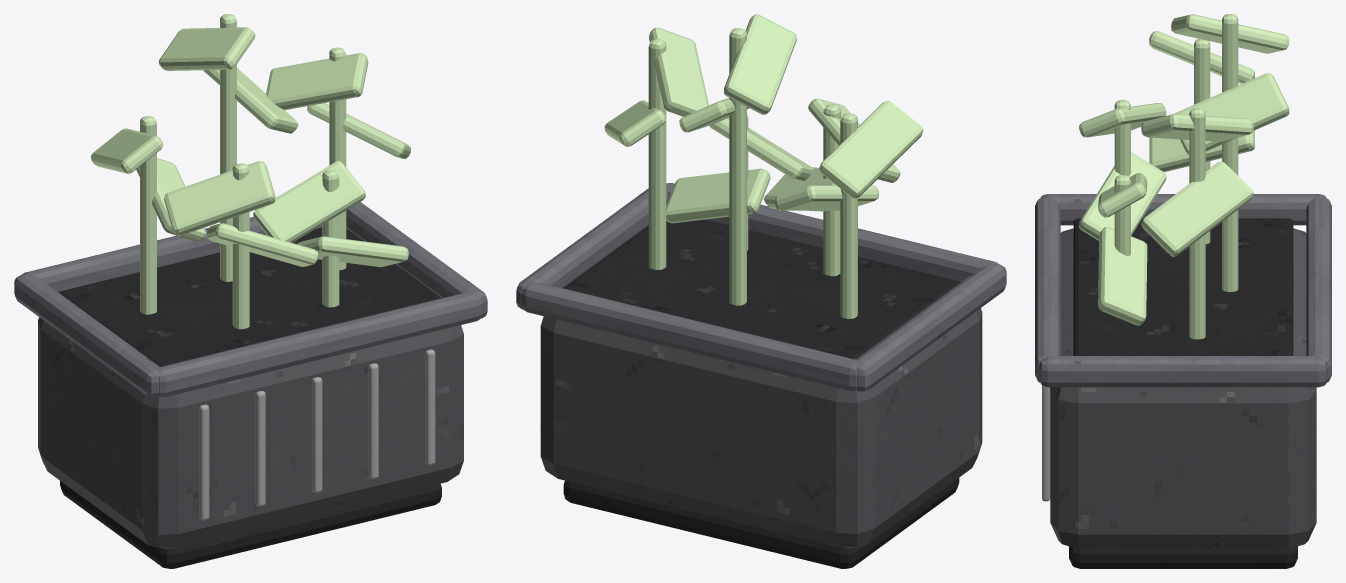
The model's file is decor_hall_planter.glb.
The picture shows the model from 3 angles, left to right: view 1: azimuth 30°, elevation 25°; view 2: azimuth 150°, elevation 25°; view 3: azimuth 270°, elevation 25°; orthographic projection. The views are drawn at different scales.
Visible parts, largest first — view 1: DEC_HallPlanter__Pot, DEC_HallPlanter__Soil, DEC_HallPlanter__Lip_Edge_0, DEC_HallPlanter__Foot, DEC_HallPlanter__Lip_Side_0, DEC_HallPlanter__Leaf_3_0, DEC_HallPlanter__Leaf_4_0, DEC_HallPlanter__Lip_Edge_1, DEC_HallPlanter__Leaf_2_0, DEC_HallPlanter__Lip_Side_1, DEC_HallPlanter__Leaf_1_0, DEC_HallPlanter__Stem_0 (+15 smaller); view 2: DEC_HallPlanter__Pot, DEC_HallPlanter__Soil, DEC_HallPlanter__Lip_Edge_1, DEC_HallPlanter__Foot, DEC_HallPlanter__Lip_Side_0, DEC_HallPlanter__Lip_Edge_0, DEC_HallPlanter__Leaf_0_0, DEC_HallPlanter__Leaf_1_0, DEC_HallPlanter__Lip_Side_1, DEC_HallPlanter__Stem_1, DEC_HallPlanter__Stem_2, DEC_HallPlanter__Leaf_4_1 (+9 smaller); view 3: DEC_HallPlanter__Pot, DEC_HallPlanter__Soil, DEC_HallPlanter__Lip_Side_1, DEC_HallPlanter__Leaf_2_1, DEC_HallPlanter__Foot, DEC_HallPlanter__Lip_Edge_0, DEC_HallPlanter__Lip_Edge_1, DEC_HallPlanter__Leaf_4_1, DEC_HallPlanter__Leaf_1_1, DEC_HallPlanter__Stem_1, DEC_HallPlanter__Lip_Side_0, DEC_HallPlanter__Stem_2 (+11 smaller).
Part boxes in pixels (left/top/right/bottom): DEC_HallPlanter__Pot: left=38, top=317, right=463, bottom=548; DEC_HallPlanter__Soil: left=59, top=228, right=441, bottom=366; DEC_HallPlanter__Lip_Edge_0: left=158, top=292, right=482, bottom=397; DEC_HallPlanter__Foot: left=60, top=481, right=441, bottom=568; DEC_HallPlanter__Lip_Side_0: left=14, top=274, right=159, bottom=397; DEC_HallPlanter__Leaf_3_0: left=164, top=161, right=275, bottom=235; DEC_HallPlanter__Leaf_4_0: left=253, top=161, right=365, bottom=242; DEC_HallPlanter__Lip_Edge_1: left=21, top=217, right=322, bottom=292; DEC_HallPlanter__Leaf_2_0: left=266, top=53, right=368, bottom=109; DEC_HallPlanter__Lip_Side_1: left=346, top=202, right=487, bottom=318; DEC_HallPlanter__Leaf_1_0: left=158, top=27, right=255, bottom=70; DEC_HallPlanter__Stem_0: left=140, top=116, right=156, bottom=314; DEC_HallPlanter__Pot: left=540, top=308, right=982, bottom=547; DEC_HallPlanter__Soil: left=564, top=219, right=960, bottom=359; DEC_HallPlanter__Lip_Edge_1: left=521, top=282, right=857, bottom=390; DEC_HallPlanter__Foot: left=563, top=478, right=959, bottom=568; DEC_HallPlanter__Lip_Side_0: left=855, top=263, right=1006, bottom=391; DEC_HallPlanter__Lip_Edge_0: left=666, top=183, right=999, bottom=282; DEC_HallPlanter__Leaf_0_0: left=819, top=100, right=923, bottom=198; DEC_HallPlanter__Leaf_1_0: left=724, top=14, right=796, bottom=114; DEC_HallPlanter__Lip_Side_1: left=516, top=184, right=668, bottom=309; DEC_HallPlanter__Stem_1: left=729, top=28, right=746, bottom=305; DEC_HallPlanter__Stem_2: left=648, top=39, right=666, bottom=269; DEC_HallPlanter__Leaf_4_1: left=666, top=168, right=770, bottom=223; DEC_HallPlanter__Pot: left=1050, top=228, right=1316, bottom=548; DEC_HallPlanter__Soil: left=1073, top=218, right=1293, bottom=355; DEC_HallPlanter__Lip_Side_1: left=1038, top=356, right=1328, bottom=387; DEC_HallPlanter__Leaf_2_1: left=1141, top=161, right=1253, bottom=256; DEC_HallPlanter__Foot: left=1069, top=546, right=1297, bottom=568; DEC_HallPlanter__Lip_Edge_0: left=1035, top=197, right=1060, bottom=382; DEC_HallPlanter__Lip_Edge_1: left=1306, top=197, right=1331, bottom=382; DEC_HallPlanter__Leaf_4_1: left=1098, top=227, right=1147, bottom=325; DEC_HallPlanter__Leaf_1_1: left=1174, top=73, right=1289, bottom=155; DEC_HallPlanter__Stem_1: left=1222, top=14, right=1238, bottom=291; DEC_HallPlanter__Lip_Side_0: left=1040, top=194, right=1326, bottom=225; DEC_HallPlanter__Stem_2: left=1189, top=108, right=1205, bottom=339.
Bounding box in the file's own units: 0.875 × 1.15 × 0.635.
Materials: 5 (4 with a texture image).
